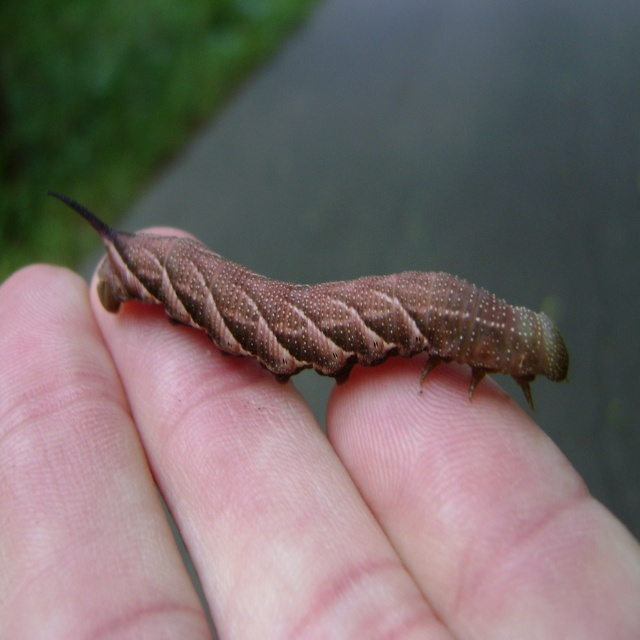Caterpillar: (50, 188, 569, 412)
